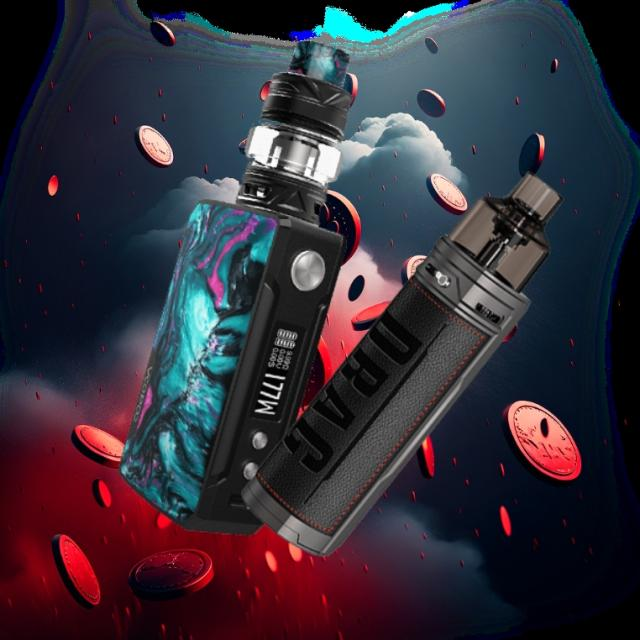Vape-images: (237, 172, 566, 562), (116, 39, 354, 536)
